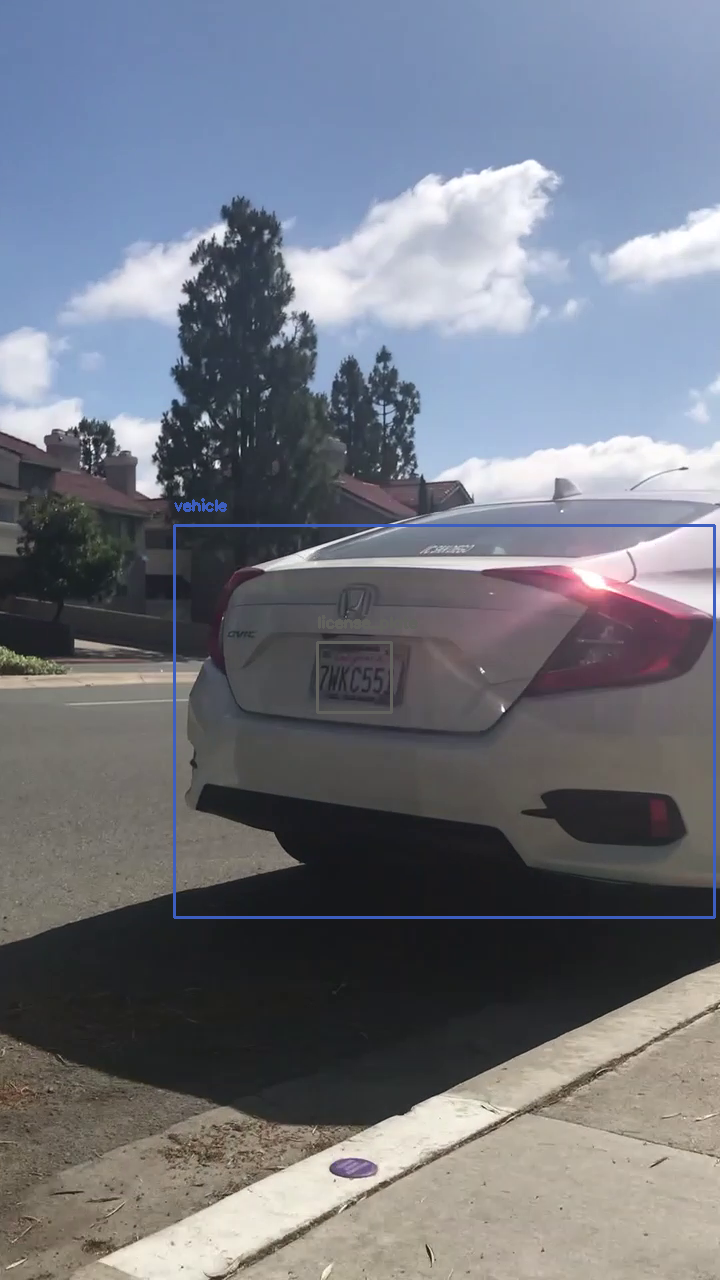license_plate: (317, 642, 391, 712)
vehicle: (174, 525, 714, 917)
